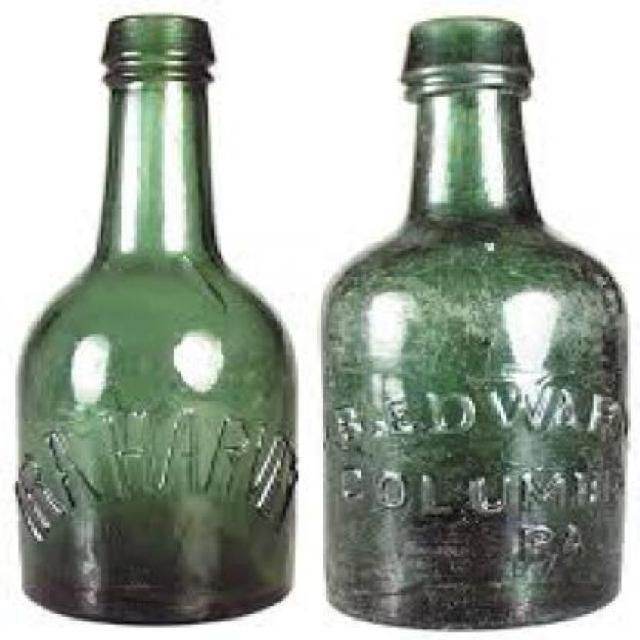GLASS: (317, 16, 618, 624), (9, 16, 296, 624)
